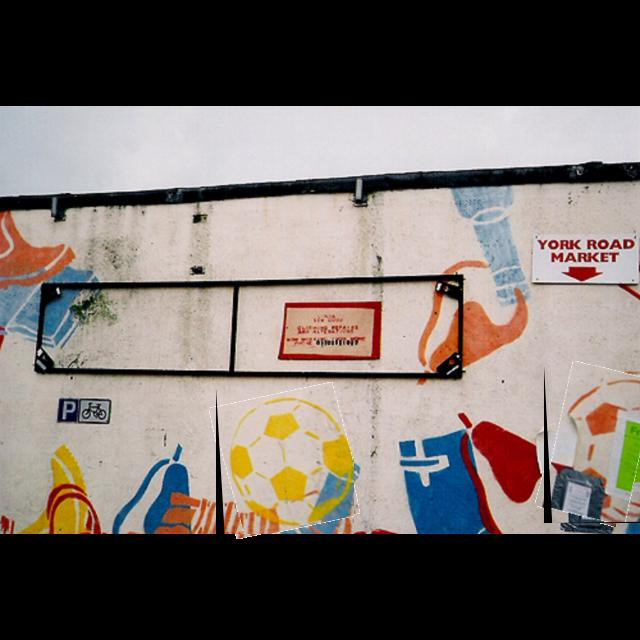Football: (216, 388, 354, 534), (544, 365, 640, 523)
